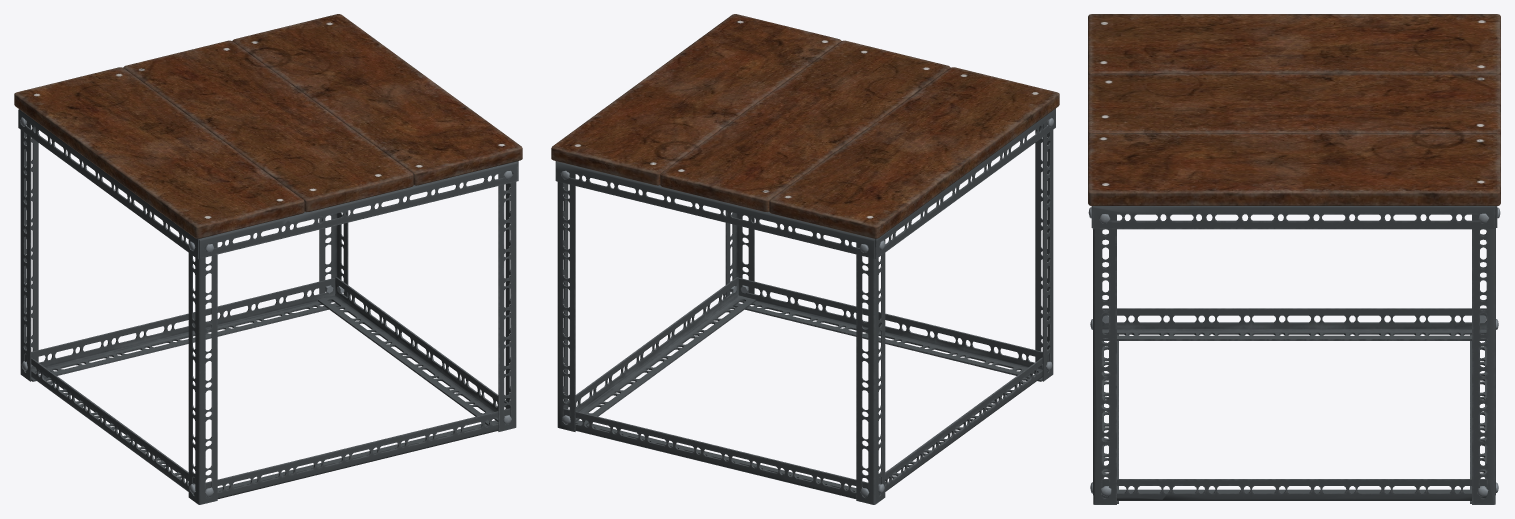
Rendered from industrial_coffee_table.glb.
3 views of the same model, side by side, from view 1: azimuth 30°, elevation 25°; view 2: azimuth 150°, elevation 25°; view 3: azimuth 270°, elevation 25° (orthographic). The views are drawn at different scales.
Visible parts, largest first — view 1: industrial_coffee_table; view 2: industrial_coffee_table; view 3: industrial_coffee_table.
Boxes of the visible parts, x1,y1,x2,y2 form: industrial_coffee_table: [14, 14, 522, 504]; industrial_coffee_table: [551, 14, 1059, 504]; industrial_coffee_table: [1088, 14, 1500, 504].
Bounding box in the file's own units: 0.7783 × 0.6384 × 0.7579.
1 material, 1 textured.
